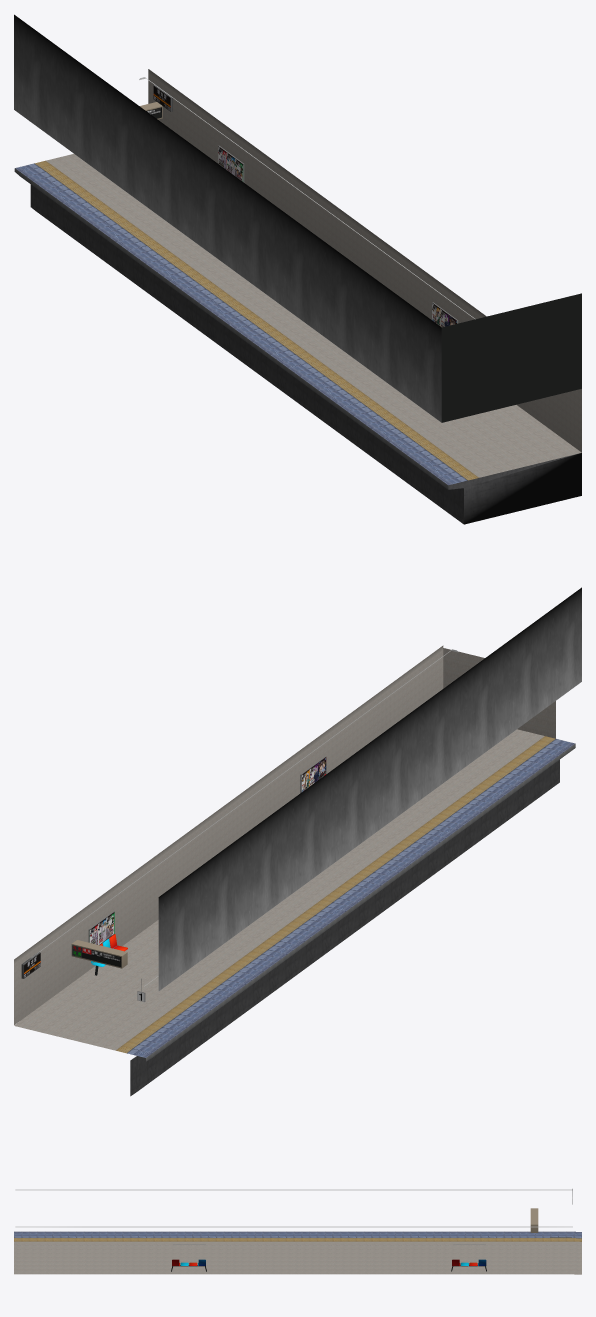
Rendered from AMB_HOME3_CHIKA.glb.
3 views of the same model, one above another, from view 1: azimuth 30°, elevation 25°; view 2: azimuth 150°, elevation 25°; view 3: azimuth 270°, elevation 25° (orthographic). The views are drawn at different scales.
Visible parts, largest first — view 1: Mesh1; view 2: Mesh1, J00, obj27; view 3: Mesh1, obj27, obj28, J00.
Boxes of the visible parts, x1,y1,x2,y2 form: Mesh1: (14, 14, 581, 524); Mesh1: (14, 587, 581, 1096); J00: (21, 940, 127, 978); obj27: (88, 911, 127, 975); Mesh1: (14, 1189, 581, 1274); obj27: (451, 1244, 486, 1271); obj28: (171, 1244, 206, 1271); J00: (530, 1208, 571, 1237).
Bounding box in the file's own units: 18.92 × 26.11 × 101.
26 materials, 25 textured.
